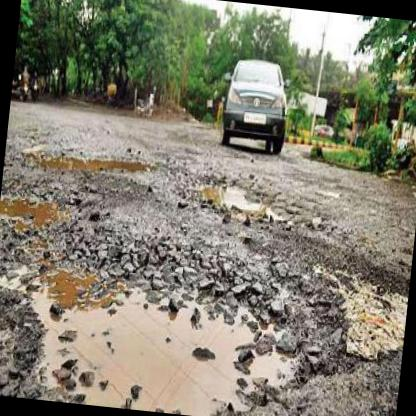pothole: (0, 219, 360, 416), (188, 167, 289, 227), (30, 146, 154, 186), (0, 183, 79, 231)
